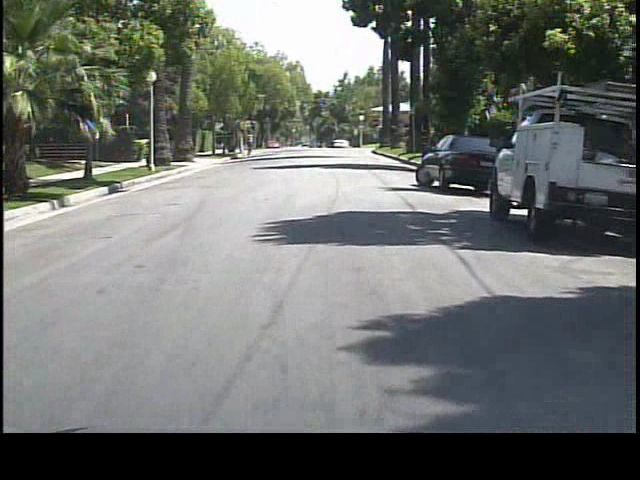person: (245, 129, 258, 158)
